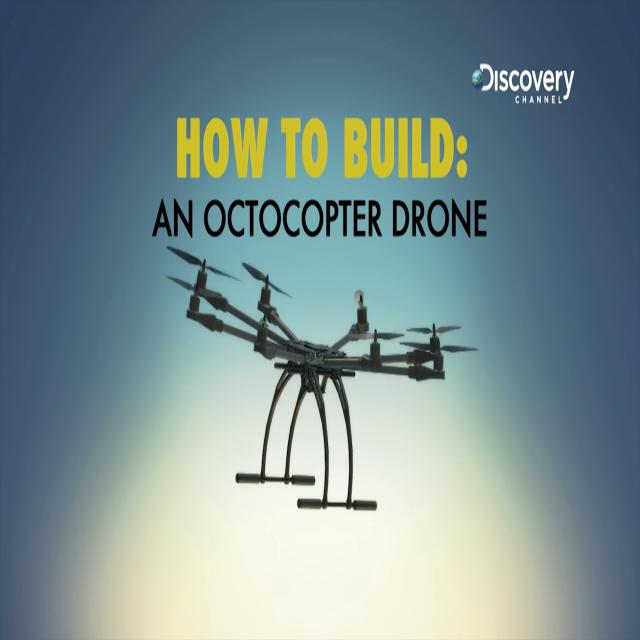drone: (171, 231, 462, 535)
